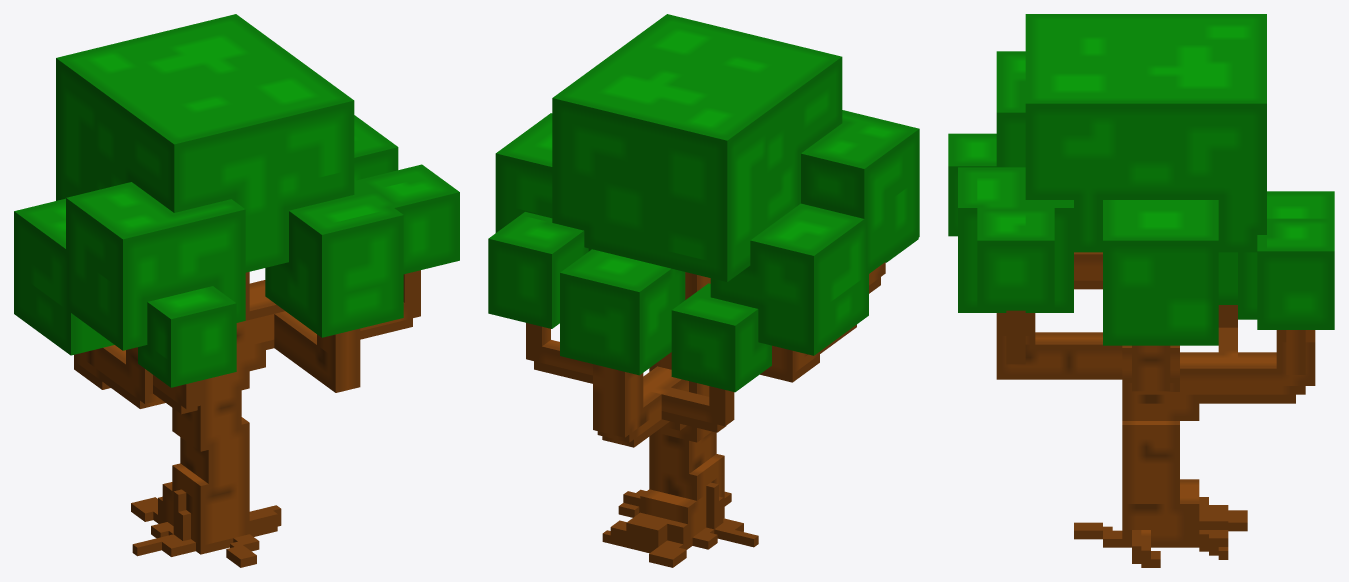
File: Tree_0.fbx
The picture shows the model from 3 angles, left to right: view 1: azimuth 30°, elevation 25°; view 2: azimuth 150°, elevation 25°; view 3: azimuth 270°, elevation 25°; orthographic projection. The views are drawn at different scales.
Visible parts, largest first — view 1: Matrix_10; view 2: Matrix_10; view 3: Matrix_10.
Part boxes in pixels (left/top/right/bottom): Matrix_10: left=14, top=14, right=459, bottom=567; Matrix_10: left=488, top=14, right=919, bottom=567; Matrix_10: left=948, top=14, right=1334, bottom=567.
Bounding box in the file's own units: 40 × 54 × 40.
